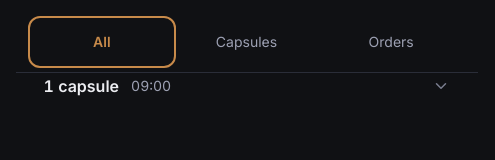
Test: the filter announces as one exclusive choice, not three toggles
Expected: the number of radio buttons is 3, x1=32 y1=20 x2=172 y2=64; x1=176 y1=20 x2=317 y2=64; x1=321 y1=20 x2=462 y2=64
Expected: the radio button labelled "All" is checked, x1=32 y1=20 x2=172 y2=64
Press Arrowright
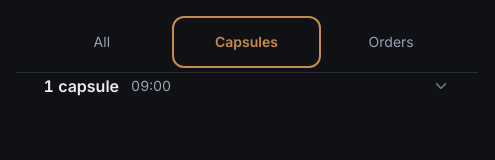
Result: the radio button labelled "Capsules" is checked at x1=176 y1=20 x2=317 y2=64
Result: the radio button labelled "All" is not checked
Click the radio button labelled "All" at (102, 42), box x1=32 y1=20 x2=172 y2=64
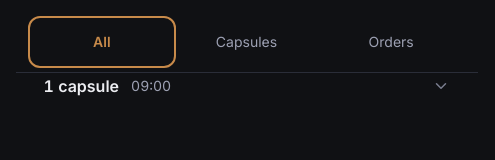
Press Arrowleft
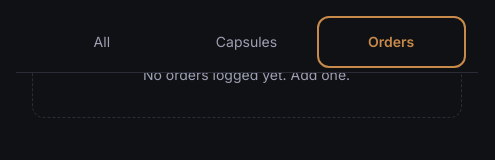
Result: the radio button labelled "Orders" is checked at x1=321 y1=20 x2=462 y2=64
